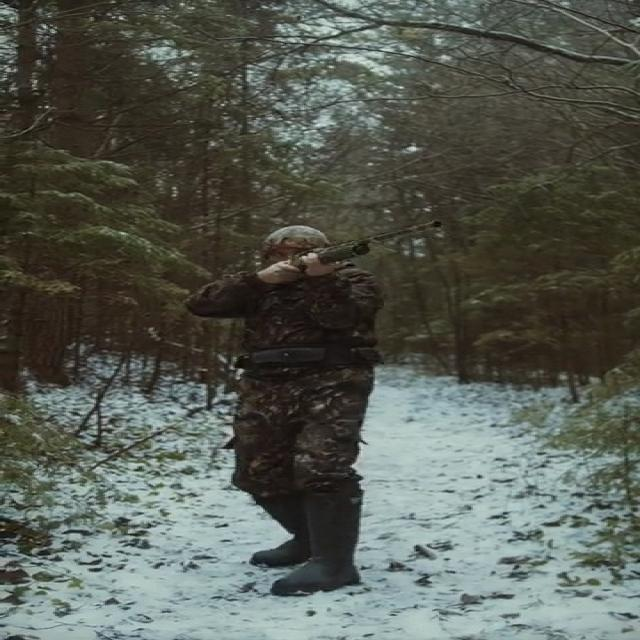Gun_Holder: (268, 217, 448, 283)
Person: (184, 222, 393, 587)
